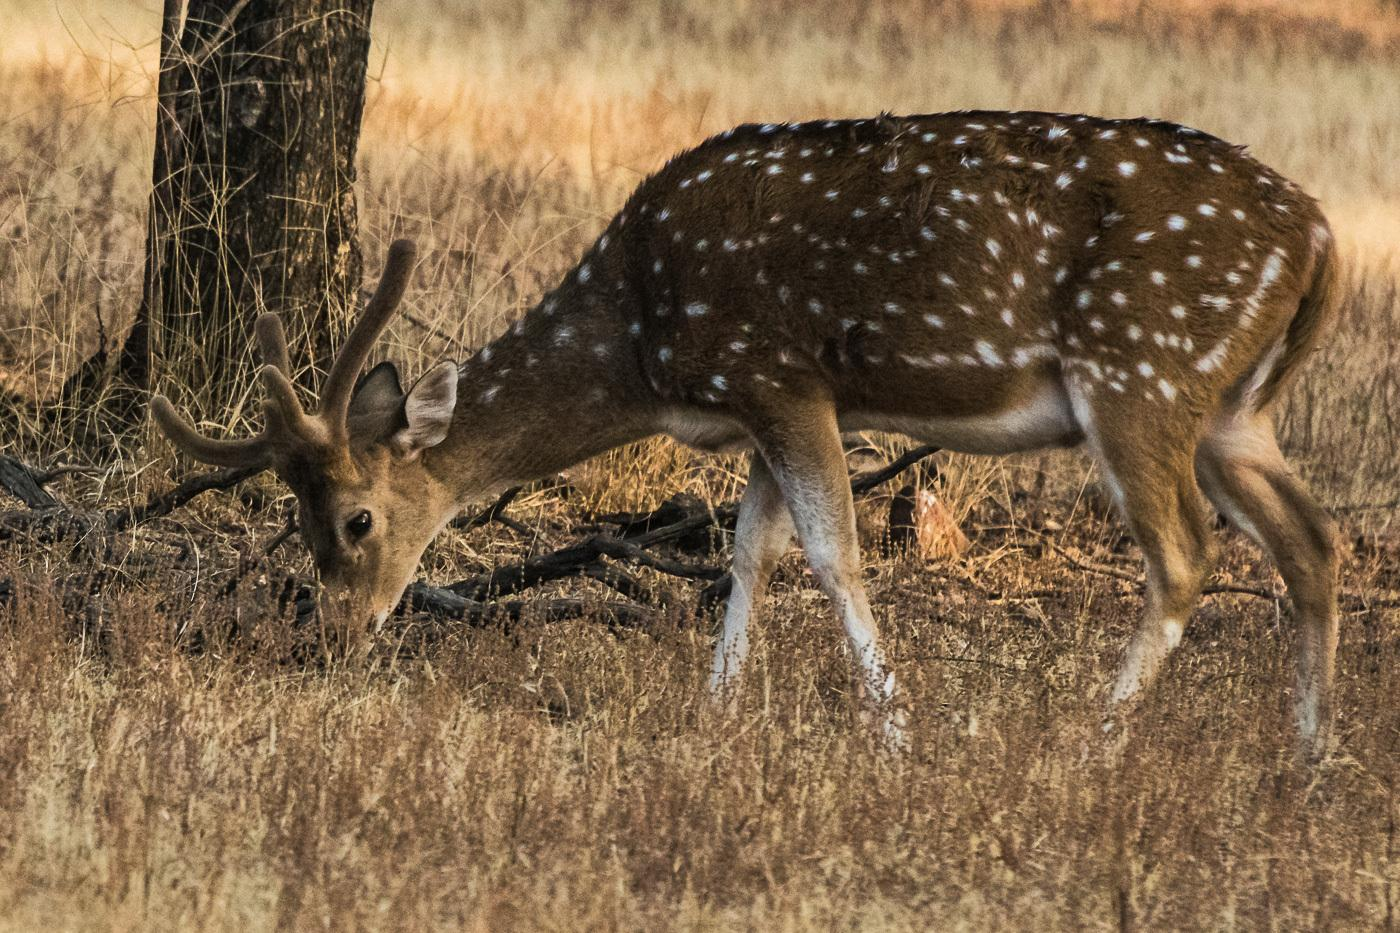Deer: (151, 112, 1335, 742)
